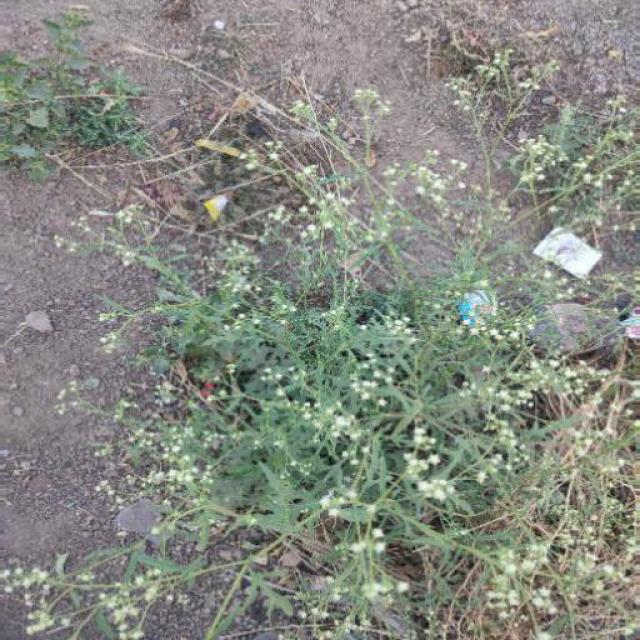weed: (52, 34, 630, 640)
